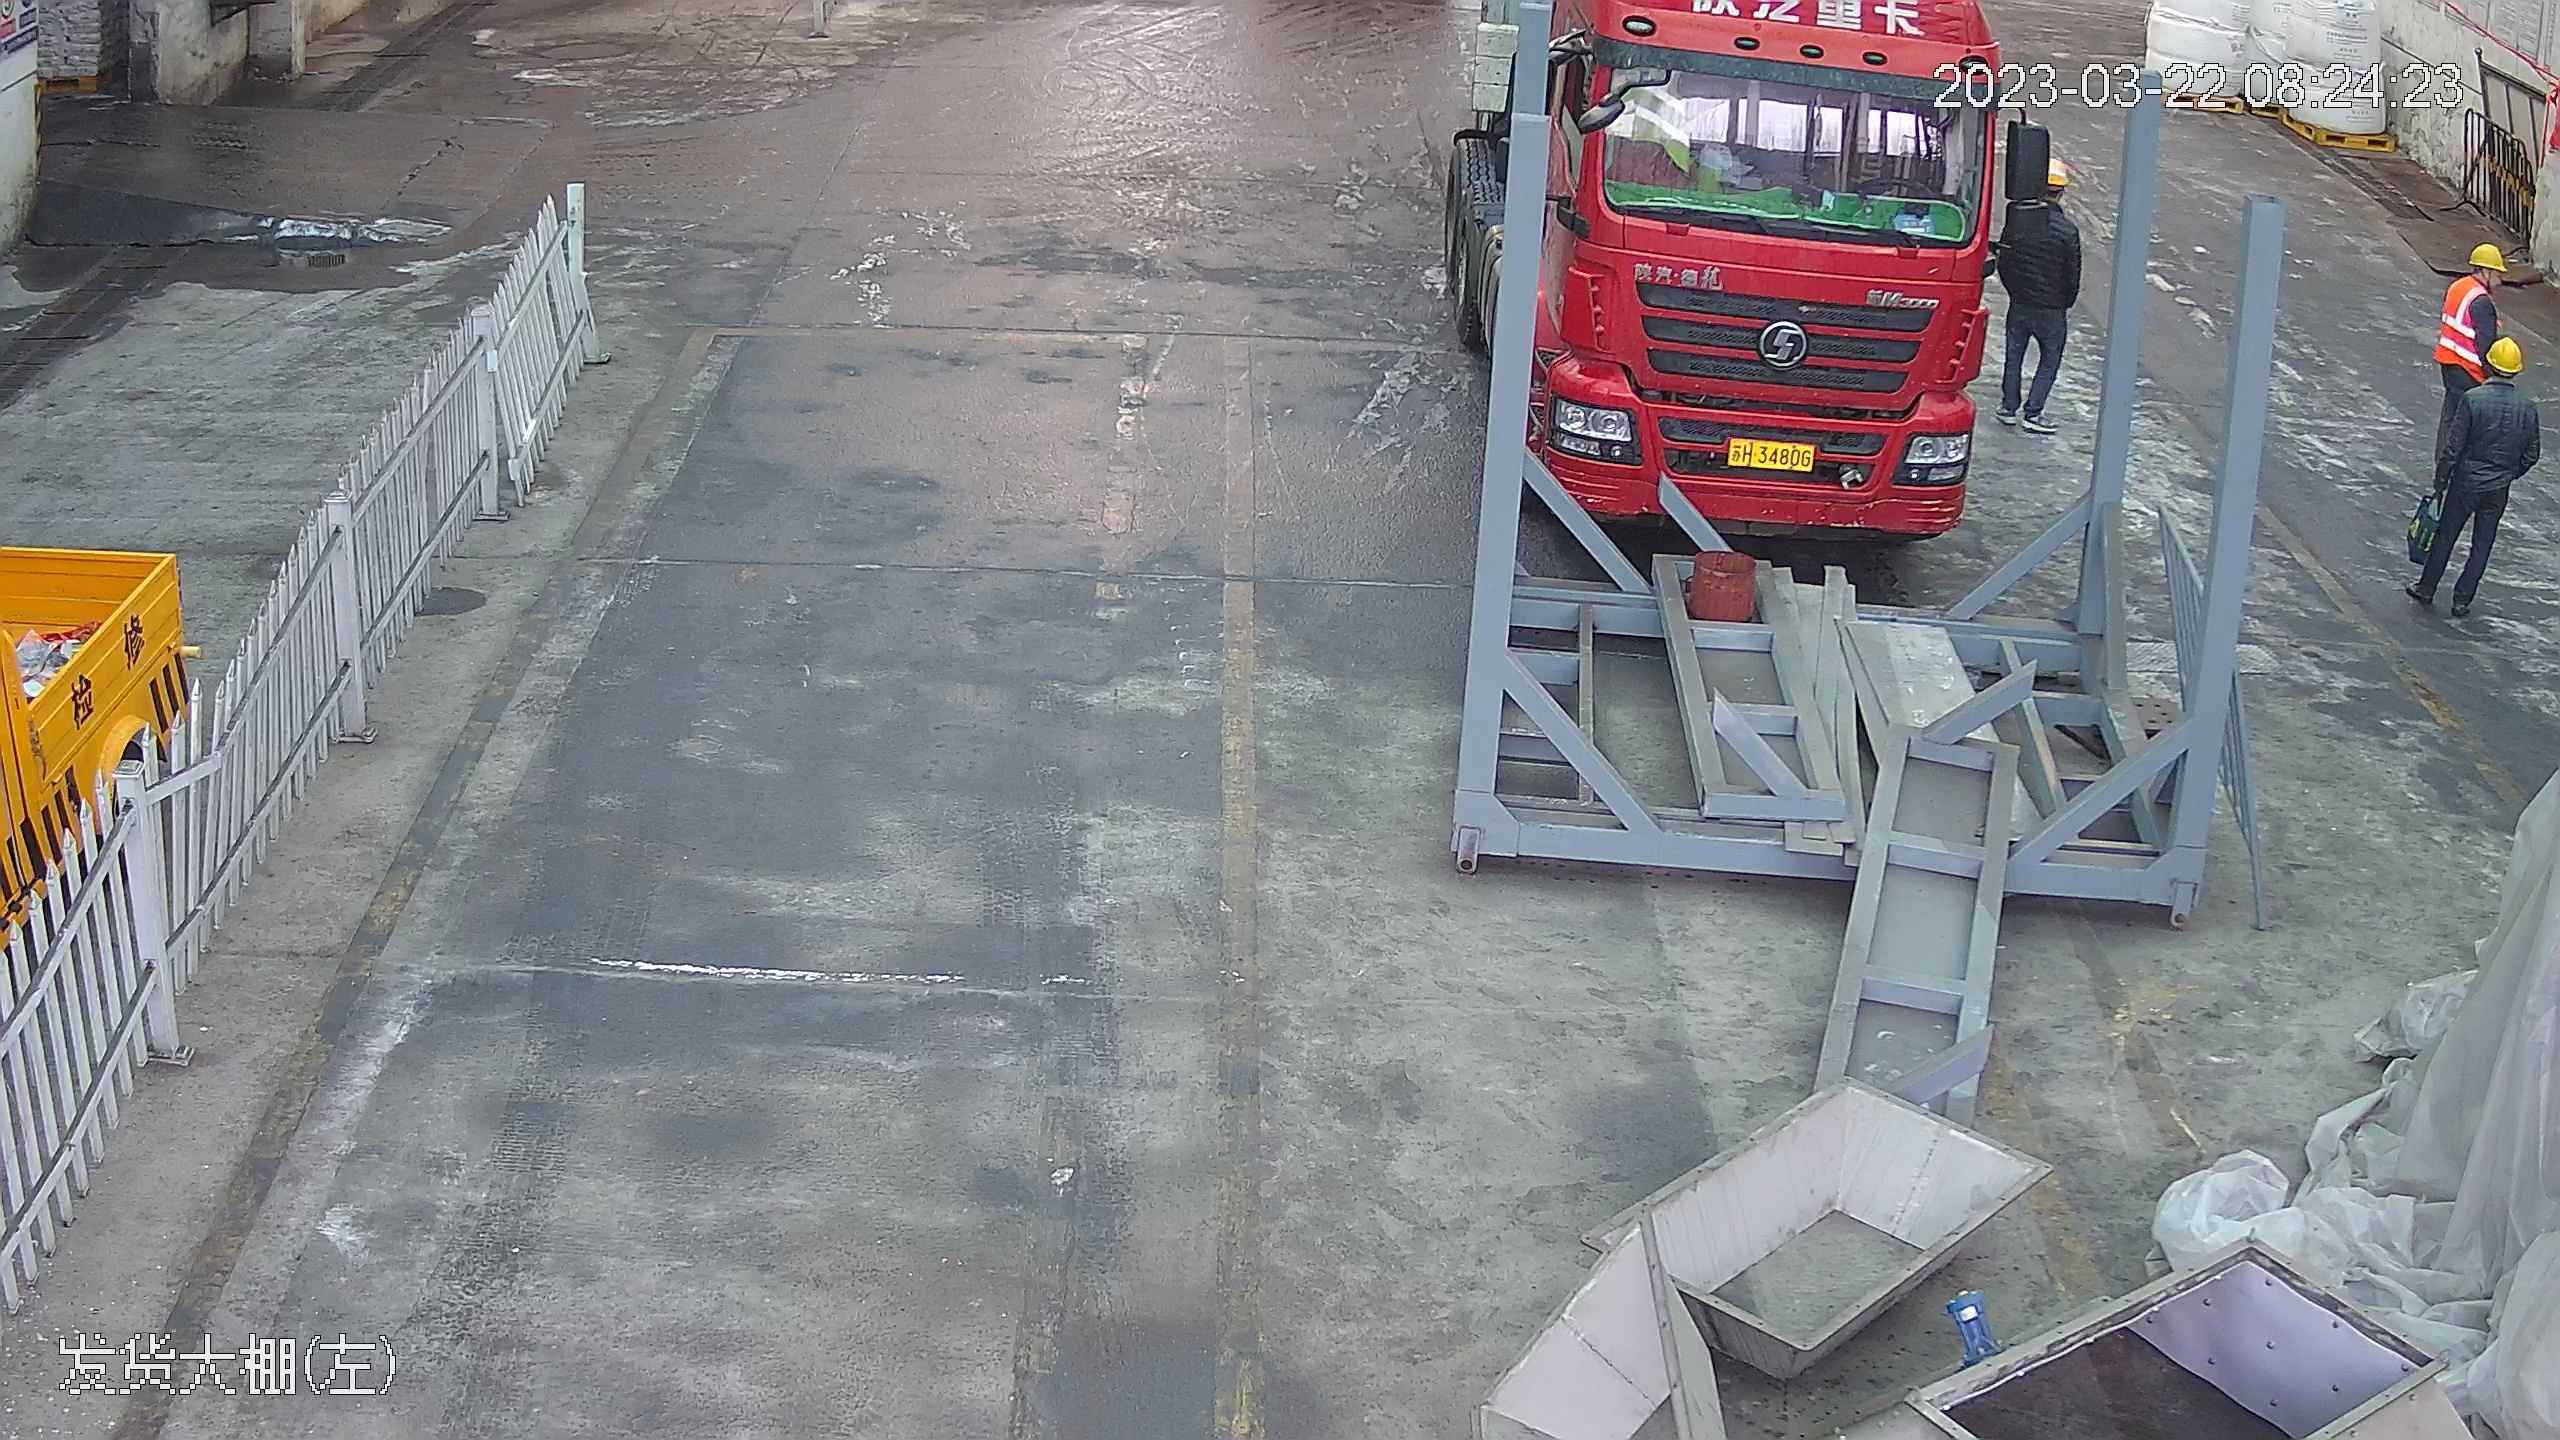head: (2452, 335, 2537, 428), (2444, 240, 2511, 322), (2014, 161, 2079, 237)
helmet: (2480, 334, 2523, 374), (2470, 243, 2508, 271), (2040, 163, 2070, 189)
people: (2408, 331, 2540, 627), (1994, 160, 2083, 427), (2430, 246, 2512, 399)
truck: (1504, 0, 2019, 547)
